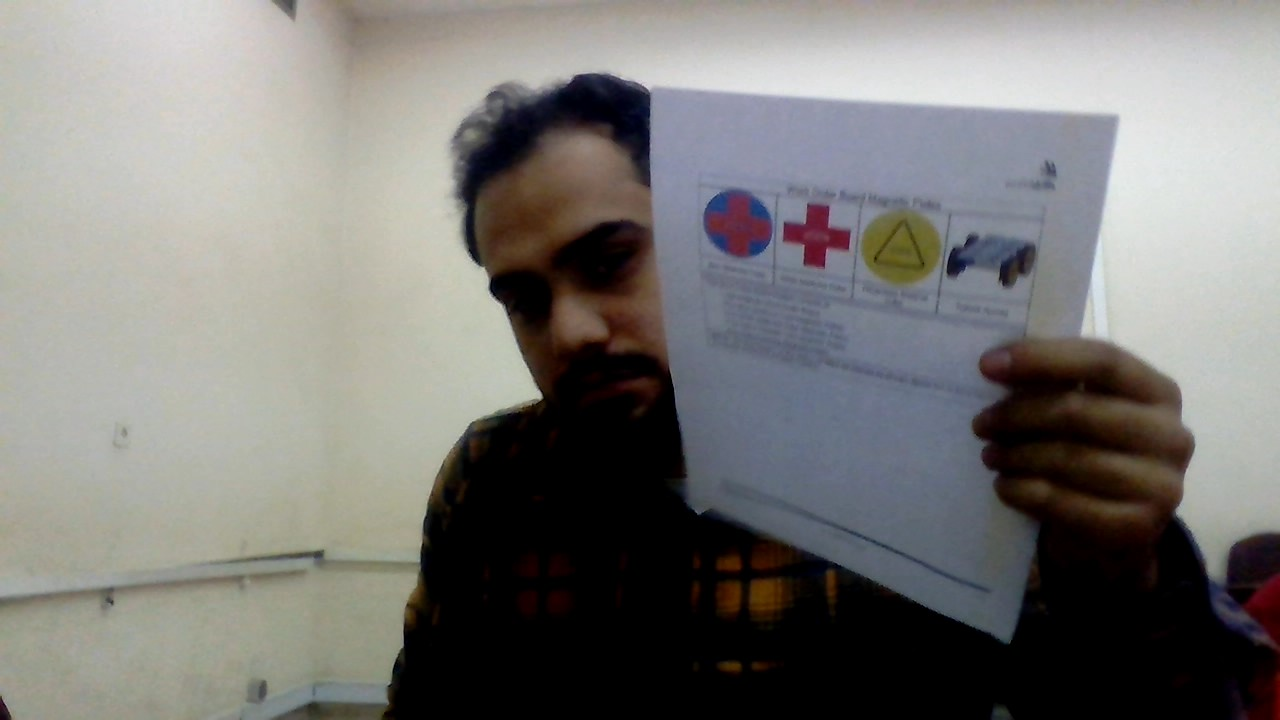bmc: (700, 185, 777, 260)
hmc: (861, 208, 942, 285)
pg: (944, 220, 1039, 293)
wmc: (775, 195, 853, 272)
